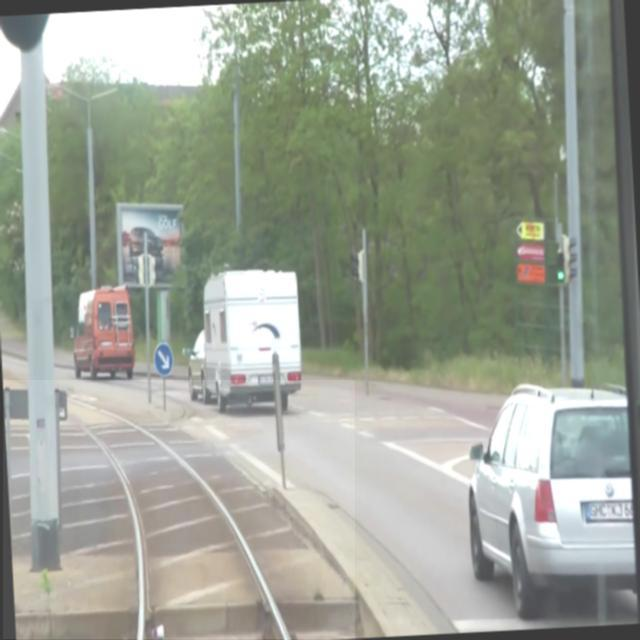rail: (4, 381, 356, 640)
